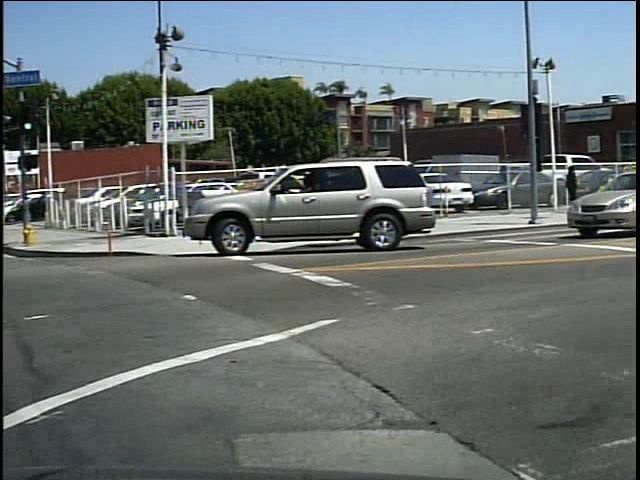person: (565, 162, 588, 216)
